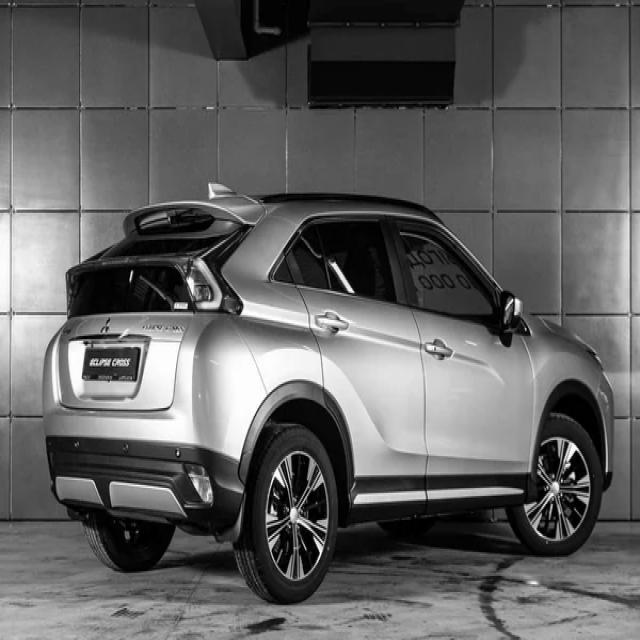Car: (42, 184, 616, 604)
